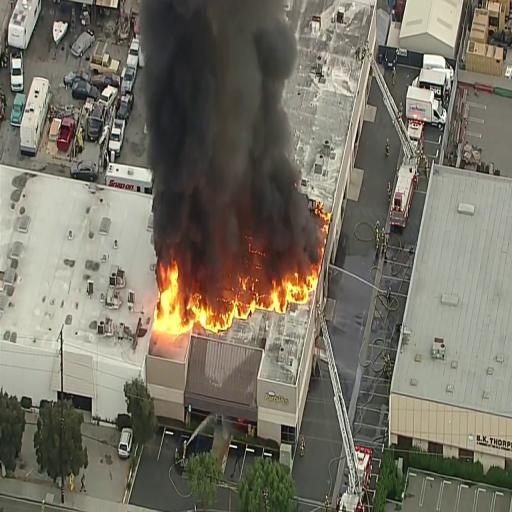fire: (151, 262, 185, 339), (188, 287, 236, 341)
smoke: (167, 0, 285, 233)
